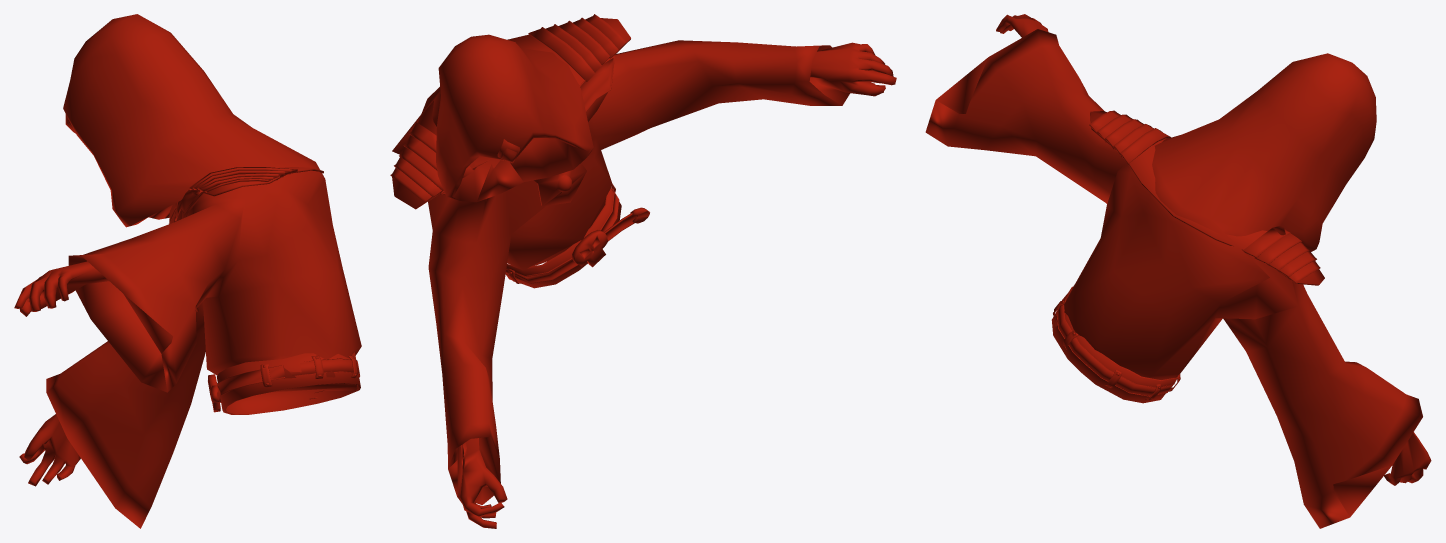
Rendered from top_000048.obj.
3 renders of one model, left to right at view 1: azimuth 30°, elevation 25°; view 2: azimuth 150°, elevation 25°; view 3: azimuth 270°, elevation 25°, orthographic. The views are drawn at different scales.
Visible parts, largest first — view 1: LowPoly_Warlock.000_Plane.005; view 2: LowPoly_Warlock.000_Plane.005; view 3: LowPoly_Warlock.000_Plane.005.
Part boxes in pixels (x1,y1,x2,y2): LowPoly_Warlock.000_Plane.005: (14,14,361,528); LowPoly_Warlock.000_Plane.005: (390,14,896,528); LowPoly_Warlock.000_Plane.005: (925,14,1431,528).
Bounding box in the file's own units: 1.21 × 1.42 × 1.39.
